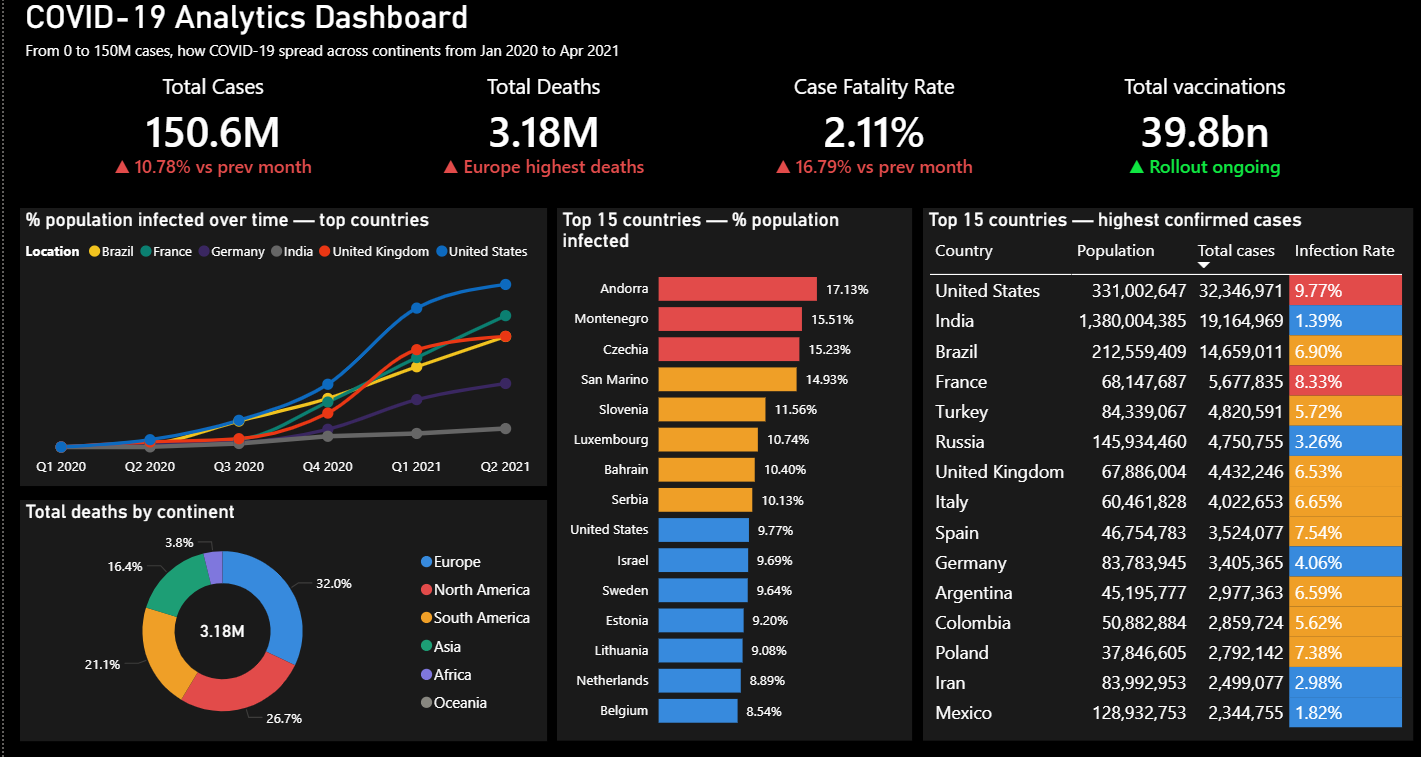

This screenshot's page, from the dashboard's own definition file:
{"tool":"powerbi","page":{"name":"Page 1","canvas":[1280,720],"ordinal":0},"visuals":[{"type":"cardVisual","title":"jjghghghghgh","fields":{"Data":["Sum(Sheet1 (4).total_cases)","Sum(Sheet1 (4).total_deaths)","Sum(Sheet1 (4).DeathPercentage)","Sum(Sheet1 (4).total_vaccinations)"]},"box":[14.6,64.9,1234.9,123.2],"z":0},{"type":"lineChart","title":"% population infected over time — top countries","fields":{"Y":["Avg(Table4.PercentPopulationInfected)"],"Series":["Table4.Location"],"Category":["Table4.QuarterYear"]},"box":[14.6,188.2,471.7,249.1],"z":1000},{"type":"clusteredBarChart","title":"Top 15 countries — % population infected","fields":{"Category":["Table3.Location"],"Y":["Avg(Table3.PercentPopulationInfected)"]},"box":[495.6,188.2,318,477],"z":2000},{"type":"donutChart","title":"Total deaths by continent","fields":{"Y":["Sum(Table2.TotalDeathCount)"],"Category":["Table2.location"]},"box":[14.6,449.2,471.7,216],"z":3000,"group":"g1"},{"type":"tableEx","title":"Top 15 countries — highest confirmed cases","fields":{"Values":["Table3.Location","Table3.Population","Table3.HighestInfectionCount","Table3.Infection Rate Label"]},"box":[822.9,188.2,438.6,477],"z":4002},{"type":"textbox","title":"COVID-19 Analytics Dashboard","box":[14.6,0,1234.9,64.9],"z":4003},{"type":"card","fields":{"Values":["Sum(Table1.total_deaths)"]},"box":[168.3,540.6,54.3,53],"z":4004,"group":"g1"},{"type":"group","id":"g1","title":"Group 1","box":[14.6,449.2,471.7,216],"z":4005}]}

Visuals, with their boxes on the page's 1280x720 design canvas (x1, y1, x2, y2). These are canvas units, not pixel positions in the 1421x757 screenshot, which may show the page scaled, cropped or inside an application window:
"jjghghghghgh" cardVisual: [15, 65, 1250, 188]
"% population infected over time — top countries" lineChart: [15, 188, 486, 437]
"Top 15 countries — % population infected" clusteredBarChart: [496, 188, 814, 665]
"Total deaths by continent" donutChart: [15, 449, 486, 665]
"Top 15 countries — highest confirmed cases" tableEx: [823, 188, 1262, 665]
"COVID-19 Analytics Dashboard" textbox: [15, 0, 1250, 65]
card - Sum(Table1.total_deaths): [168, 541, 223, 594]
"Group 1" group: [15, 449, 486, 665]
